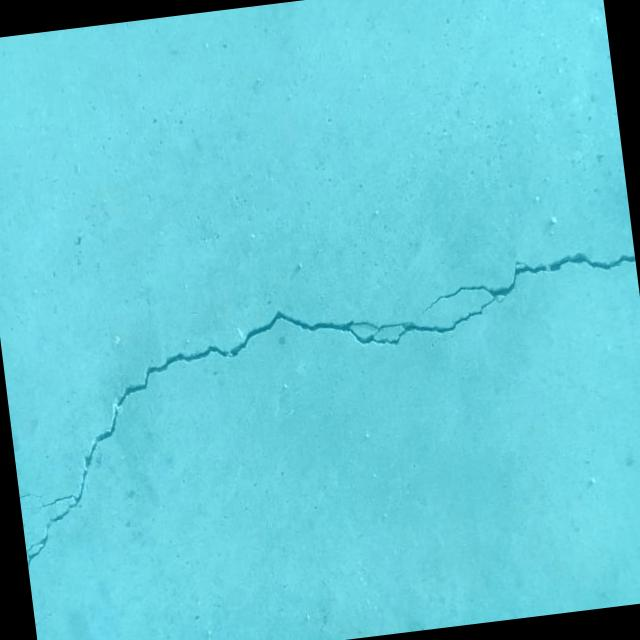crack: (0, 244, 640, 567), (18, 490, 44, 500)
